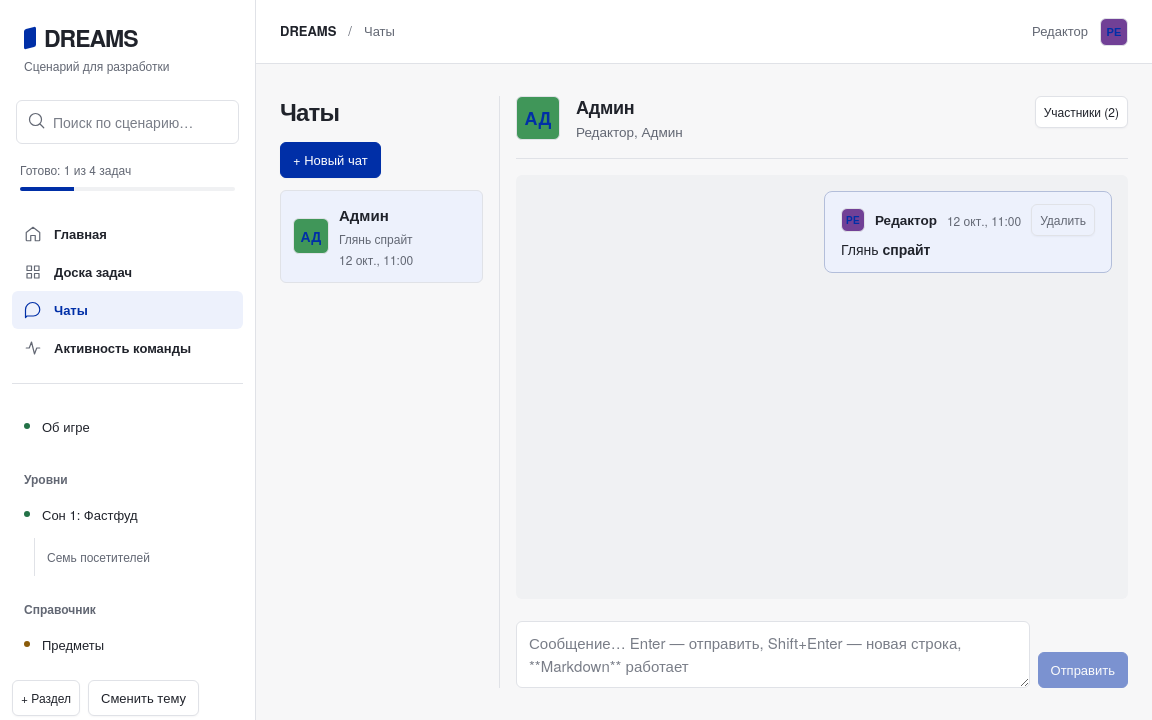
Test: chats › deletes own messages and manages members
Click the button "Удалить" at (1063, 220), box [1031, 204, 1095, 236]
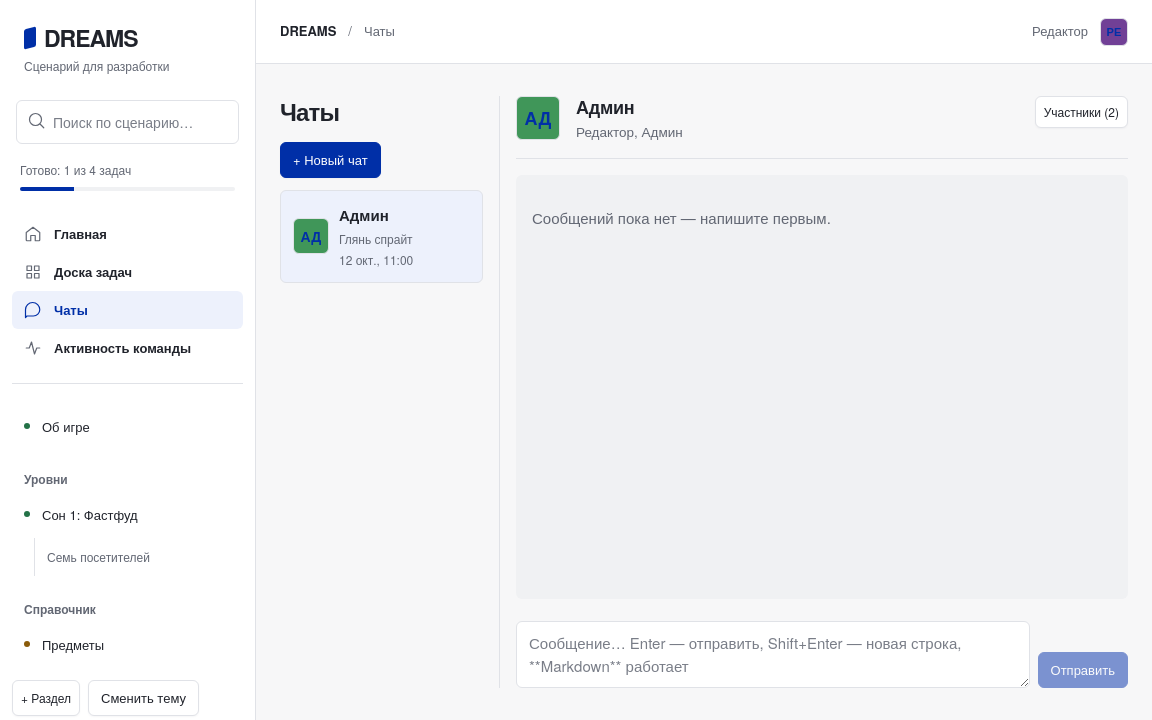
expect the list item "Редактор 12 окт., 11:00 Удалить Глянь спрайт" is gone: met
Click the button "Участники (2)" at (1081, 112), box [1035, 96, 1128, 128]
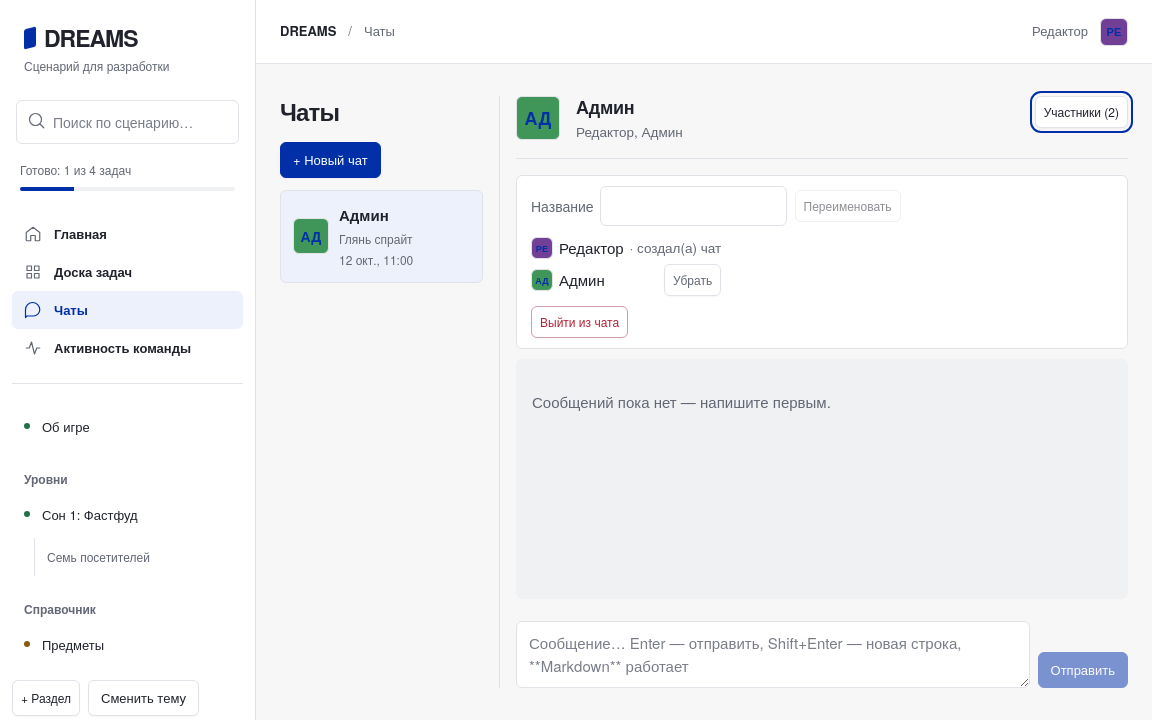
expect the button "Убрать" is shown: met, box [664, 264, 721, 296]
Type "Звук" into the field labelled "Название" at (693, 206), box [600, 186, 787, 226]
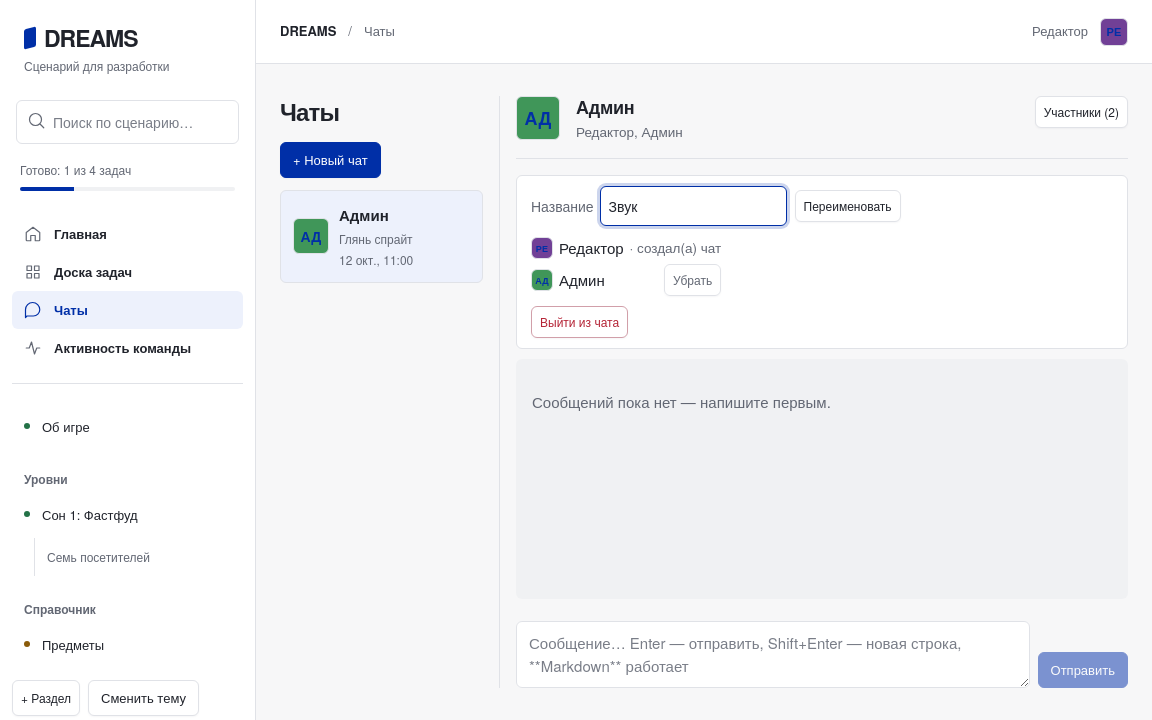
Click the button "Переименовать" at (848, 206), box [795, 190, 901, 222]
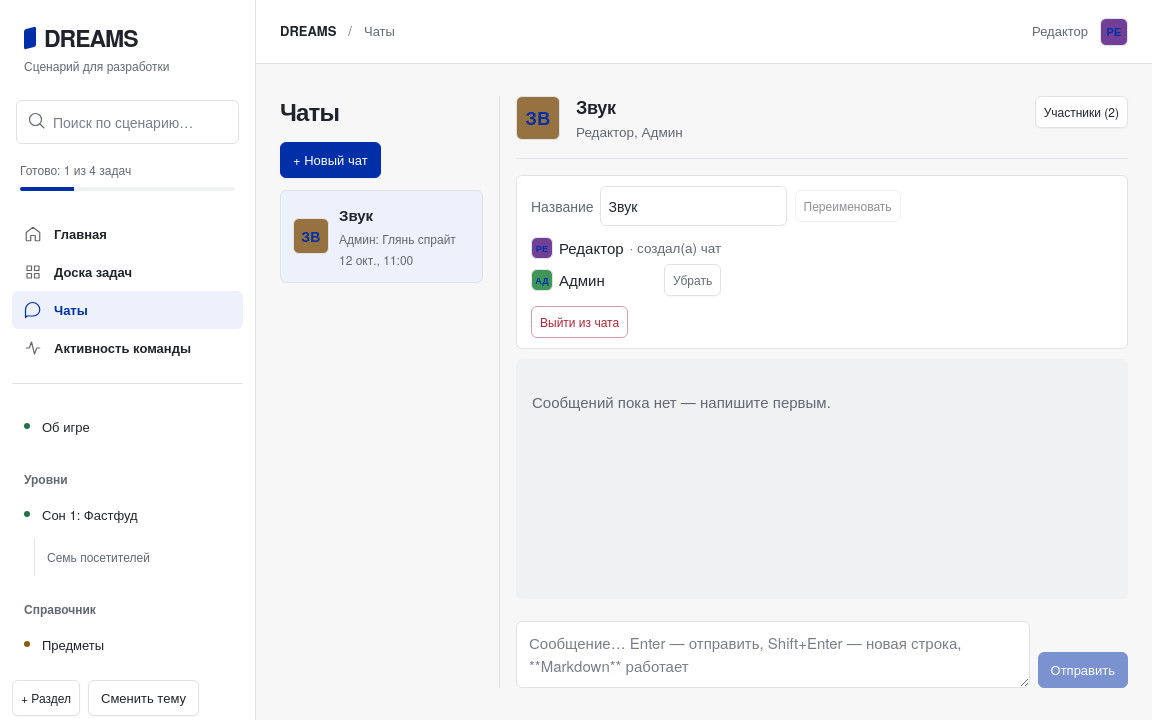
expect the element "Звук" is shown: met, box [516, 96, 1128, 688]
